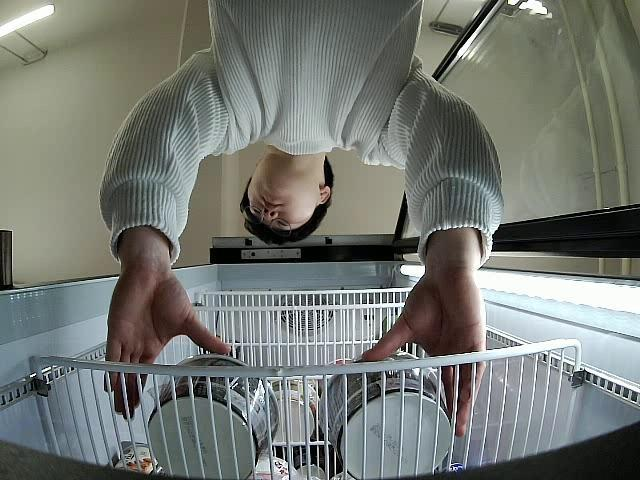07_buldak_L: (315, 350, 452, 480), (146, 356, 282, 480)
